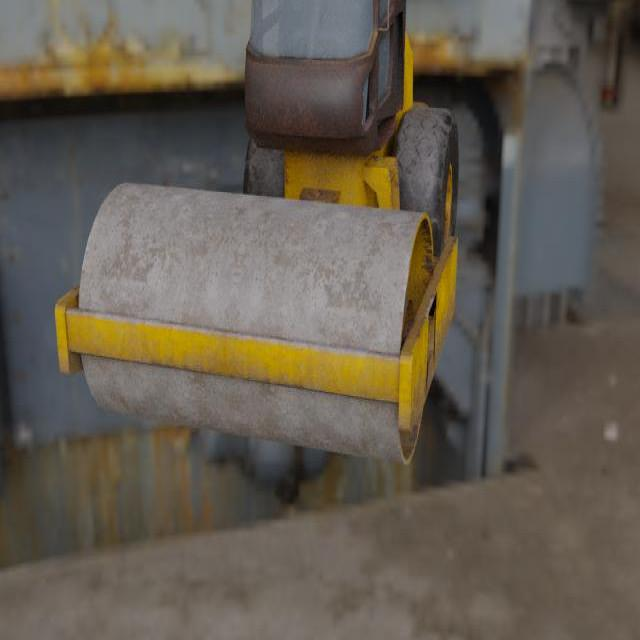Roller: (54, 0, 459, 467)
